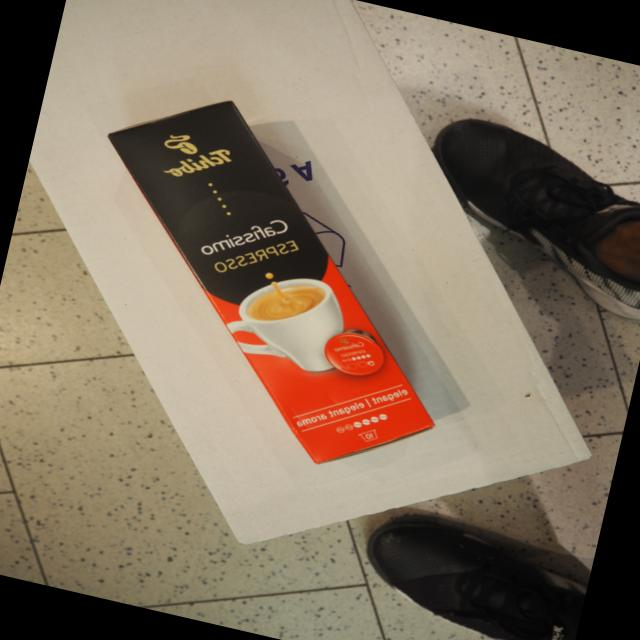Simo Es Elegant: (101, 99, 441, 469)
